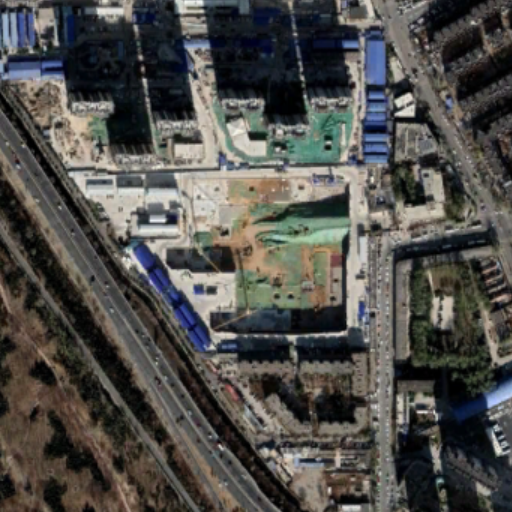cw: (192, 176, 353, 331), (217, 92, 351, 168)
